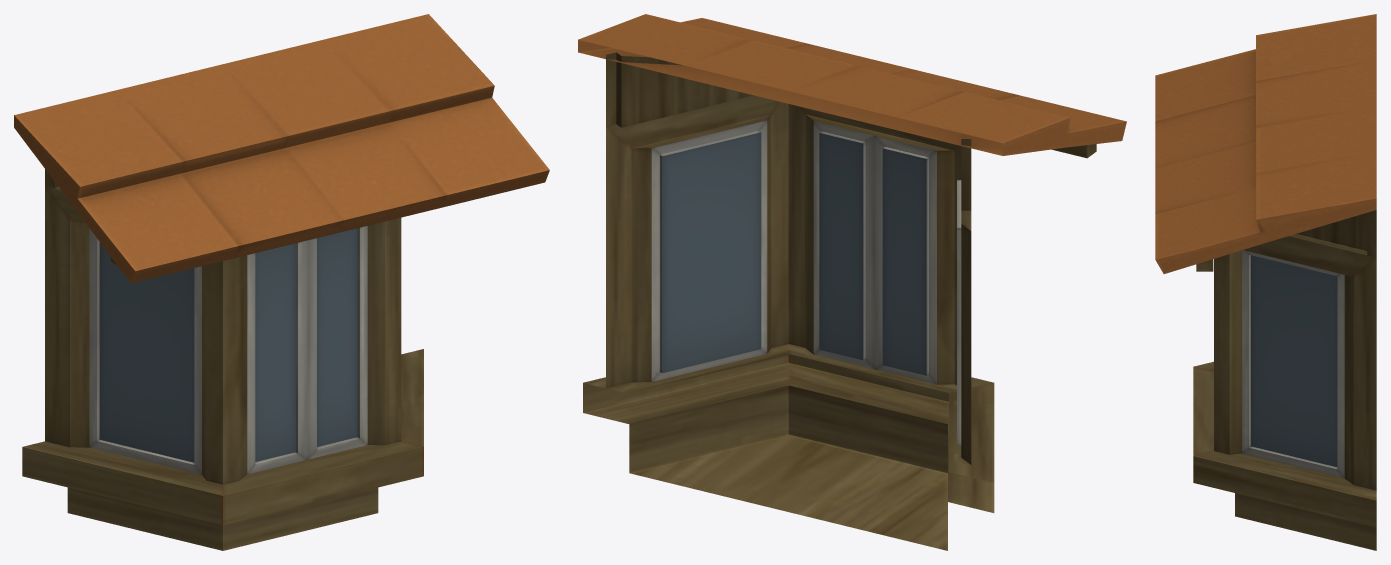
The model's file is sb_obj_outdoor040_Window11.fbx.
3 views of the same model, side by side, from view 1: azimuth 30°, elevation 25°; view 2: azimuth 150°, elevation 25°; view 3: azimuth 270°, elevation 25° (orthographic). The views are drawn at different scales.
Parts seen in each view (by area): view 1: body_low, roof_low; view 2: body_low, roof_low; view 3: body_low, roof_low.
Part boxes in pixels (x1,y1,x2,y2): body_low: [22, 169, 423, 550]; roof_low: [14, 14, 549, 283]; body_low: [583, 52, 994, 550]; roof_low: [578, 14, 1126, 158]; body_low: [1193, 210, 1376, 550]; roof_low: [1155, 14, 1376, 273].
Bounding box in the file's own units: 1.72 × 1.63 × 0.8719.
